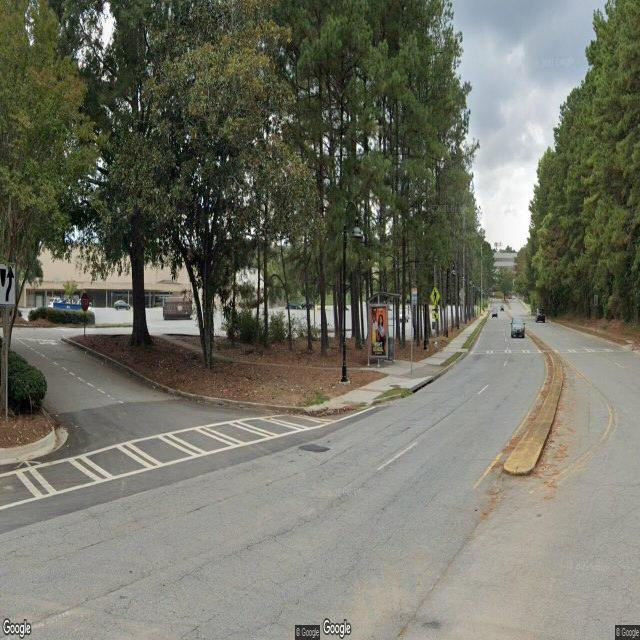shelter: (366, 292, 402, 369)
trash_can: (388, 336, 393, 362)
